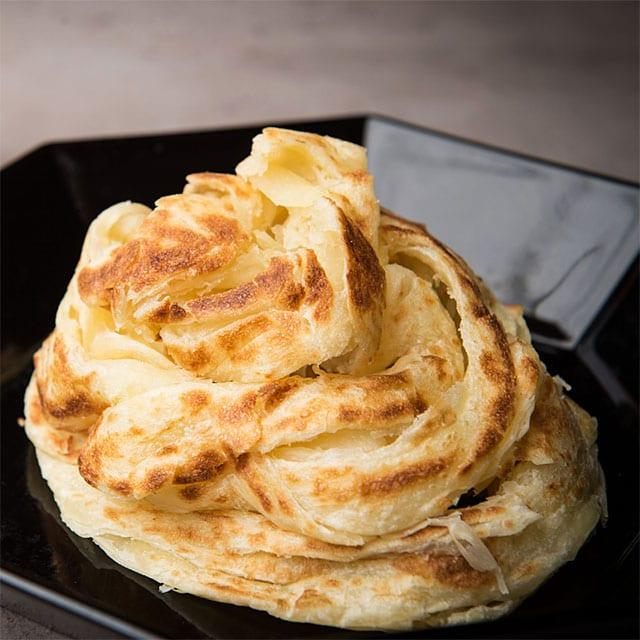Paratha: (41, 143, 577, 610)
